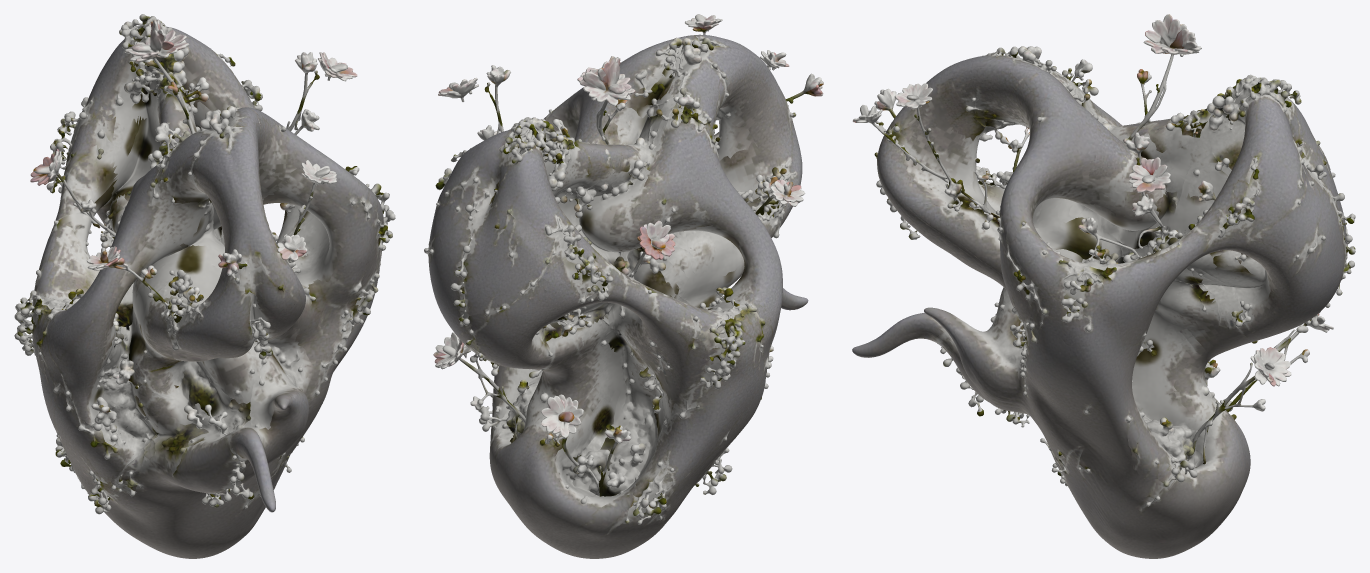
The model's file is muse-stage-2.glb.
3 renders of one model, left to right at view 1: azimuth 30°, elevation 25°; view 2: azimuth 150°, elevation 25°; view 3: azimuth 270°, elevation 25°, orthographic. The views are drawn at different scales.
Parts seen in each view (by area): view 1: tripo_node_99b8e60f-d361-40f5-b326-4cb3765e94cf; view 2: tripo_node_99b8e60f-d361-40f5-b326-4cb3765e94cf; view 3: tripo_node_99b8e60f-d361-40f5-b326-4cb3765e94cf.
Boxes of the visible parts, x1,y1,x2,y2 form: tripo_node_99b8e60f-d361-40f5-b326-4cb3765e94cf: (14, 14, 395, 558); tripo_node_99b8e60f-d361-40f5-b326-4cb3765e94cf: (424, 14, 823, 558); tripo_node_99b8e60f-d361-40f5-b326-4cb3765e94cf: (852, 14, 1355, 558).
Size of the model in its own units: 0.6293 by 0.9796 by 0.8546.
1 material, 1 textured.
